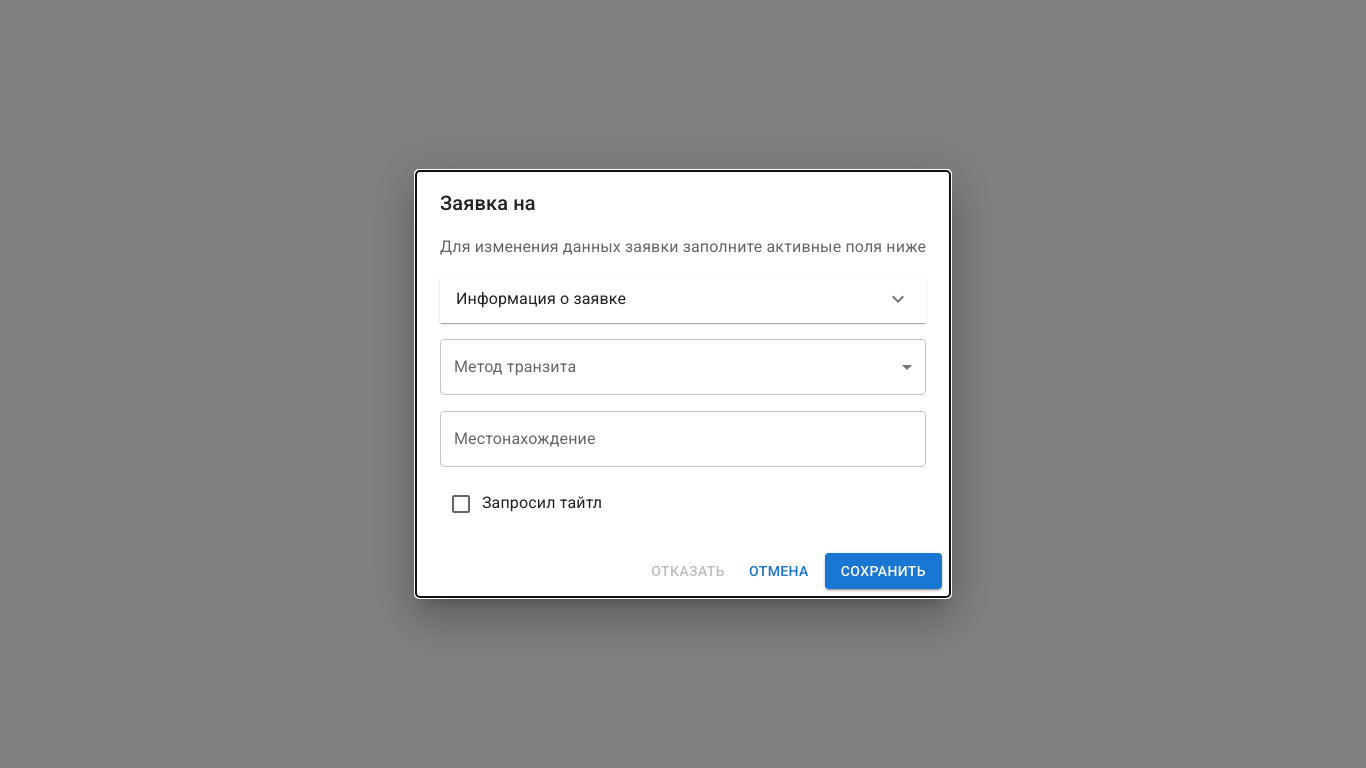
LogistBidModal › Отправка формы › не отправляет форму если нет bid
Click the dropdown named "Метод транзита". click: (683, 367)
box: x1=440 y1=339 x2=926 y2=395
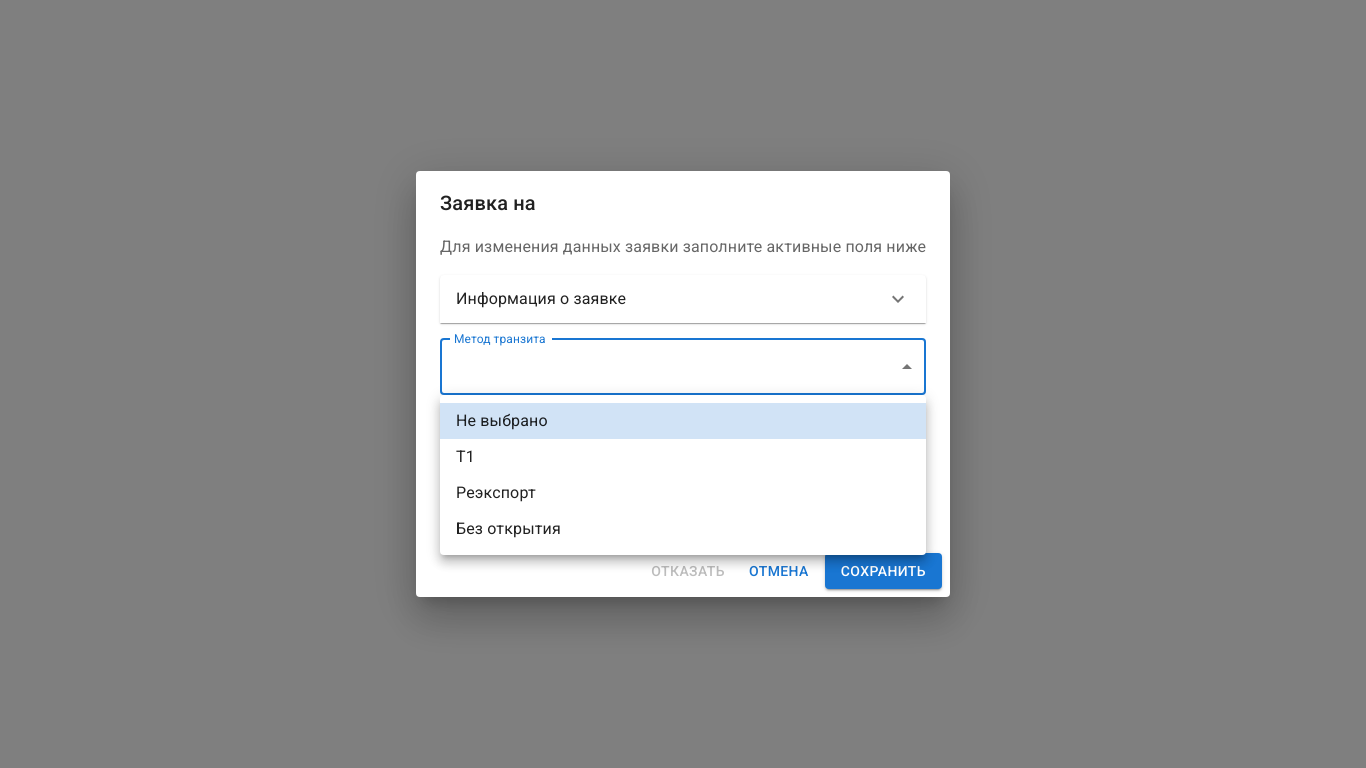
Click the option "Без открытия". click: (508, 528)
box: x1=456 y1=519 x2=561 y2=538
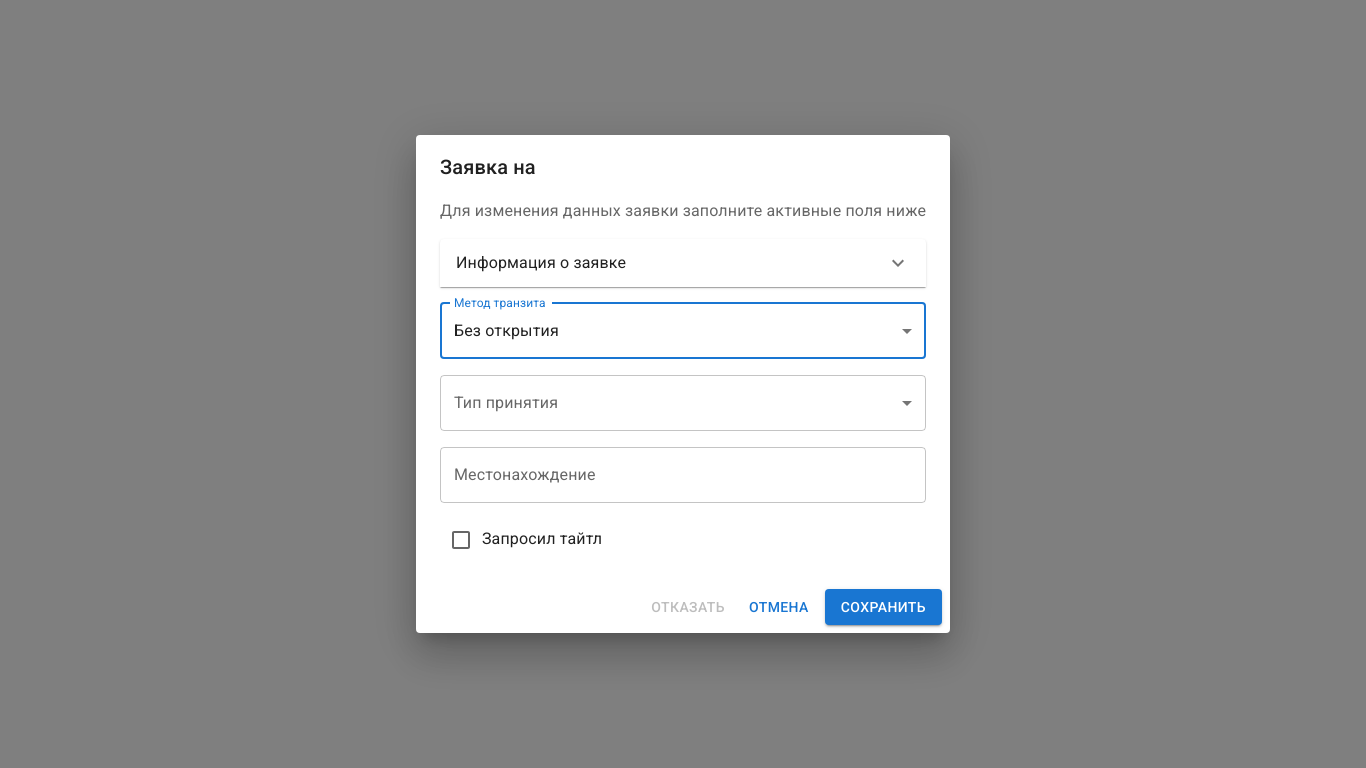
Click the dropdown named "Тип принятия". click: (683, 403)
box: x1=440 y1=375 x2=926 y2=431
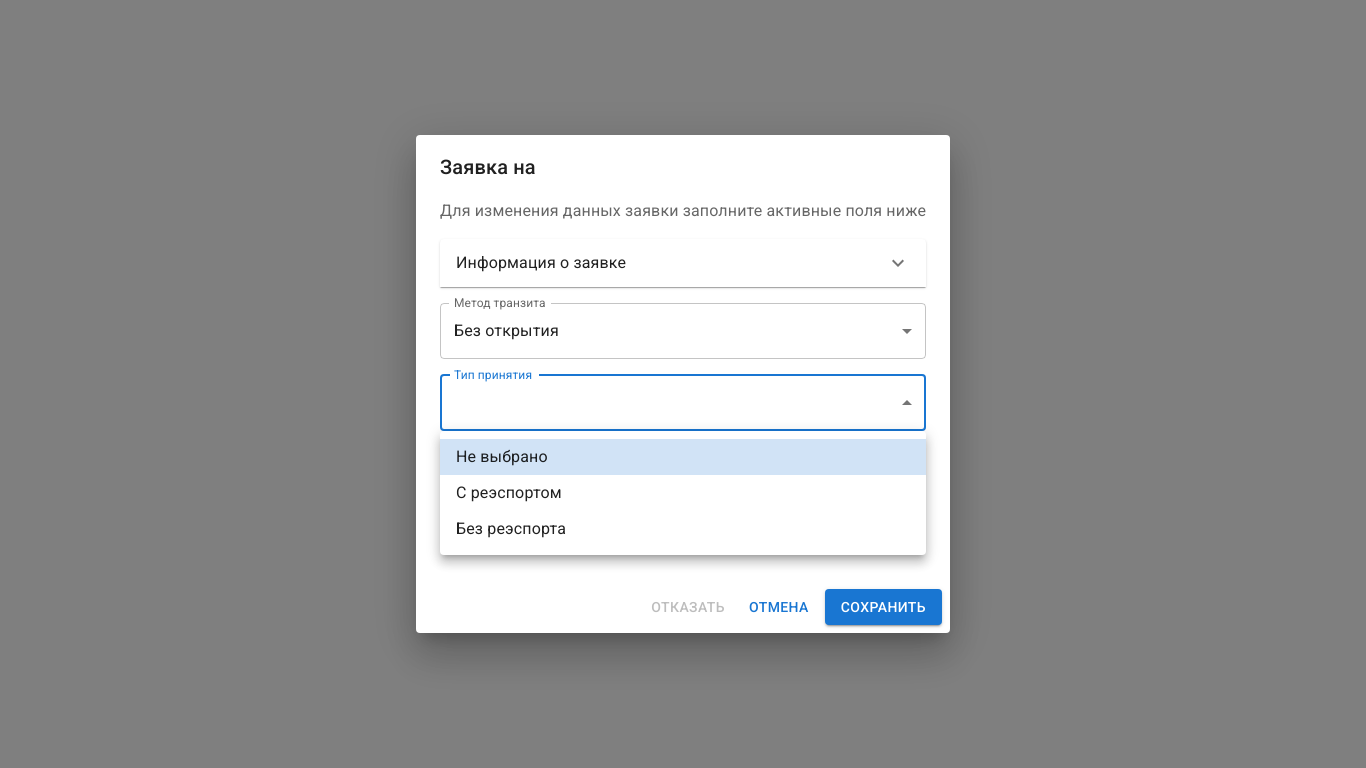
Click the option "С реэспортом". click: (509, 492)
box: x1=456 y1=483 x2=562 y2=502
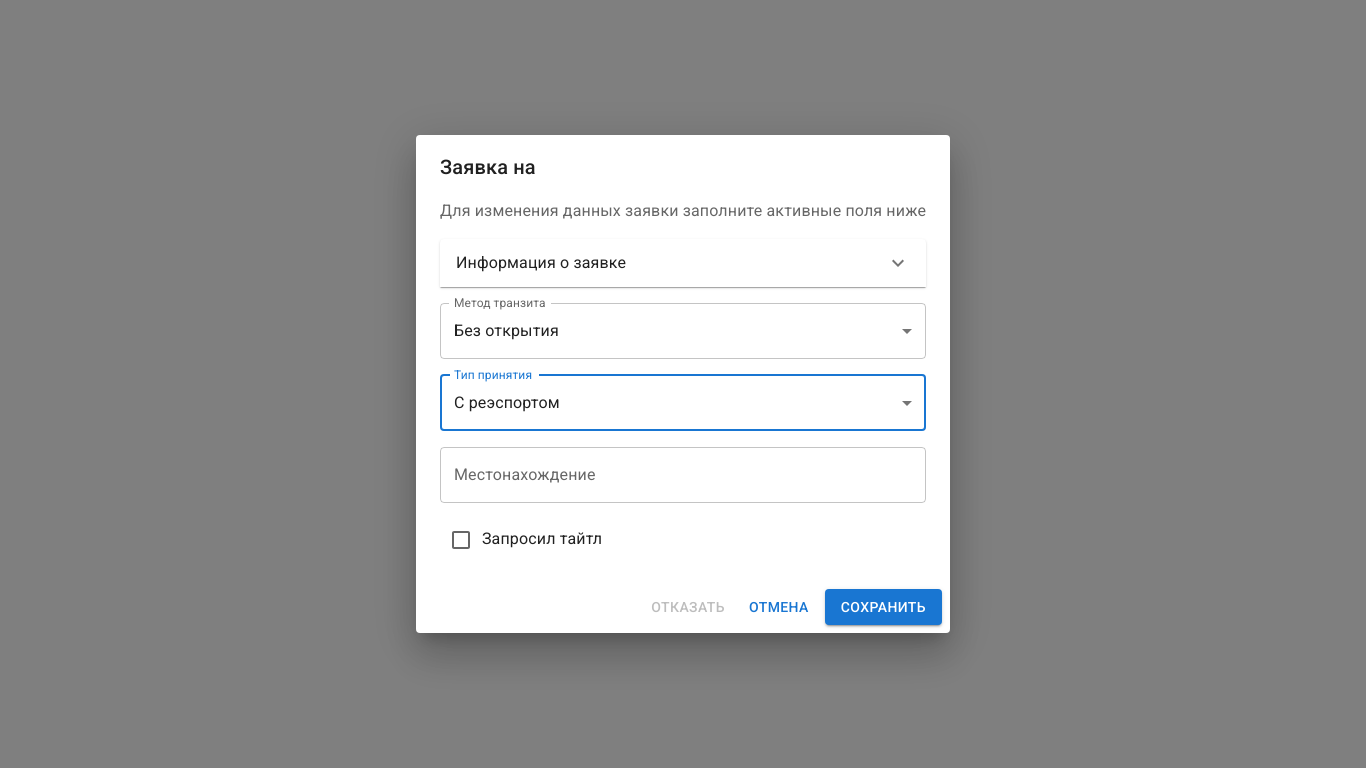
Click the button "Сохранить". click: (883, 607)
box: x1=825 y1=589 x2=942 y2=625
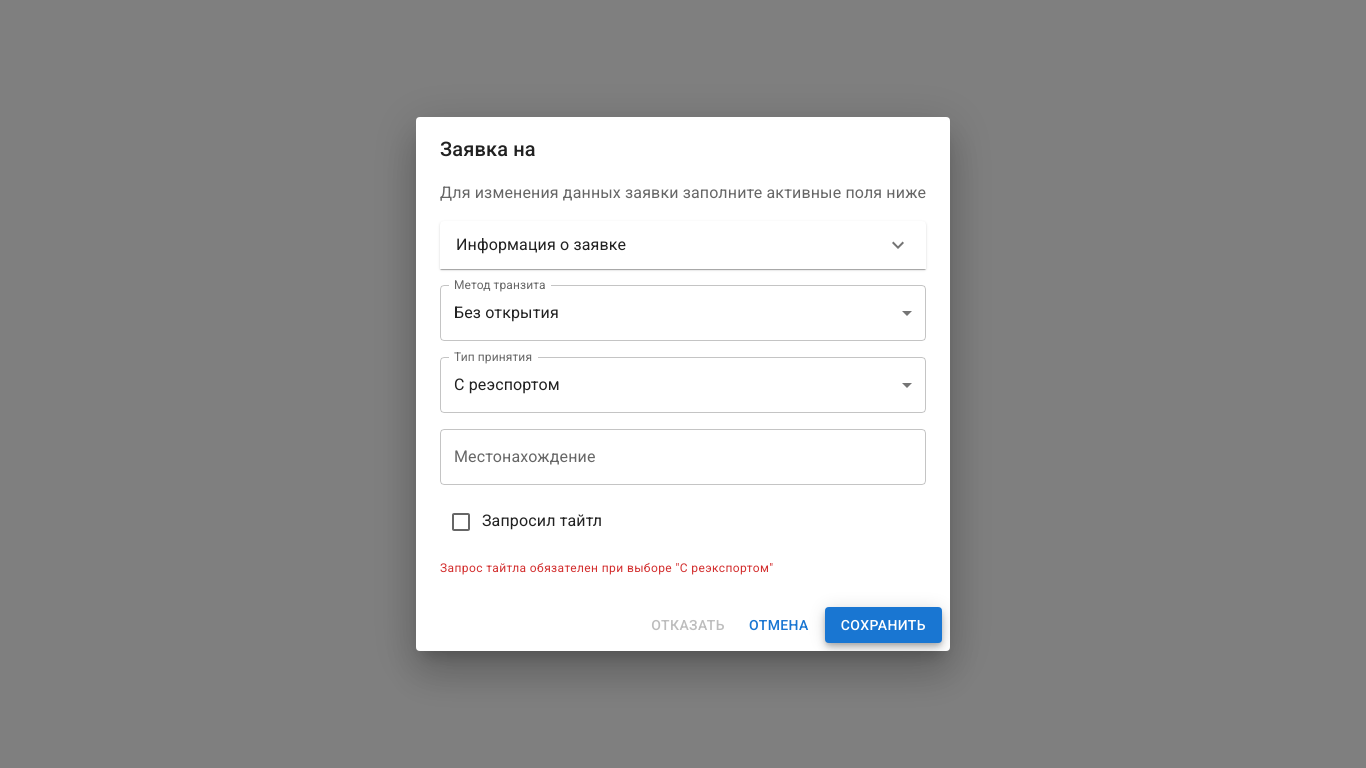
expect the text "Запрос тайтла обязателен при выборе \"C реэкспортом\"" is shown: met, box x1=440 y1=561 x2=774 y2=575
